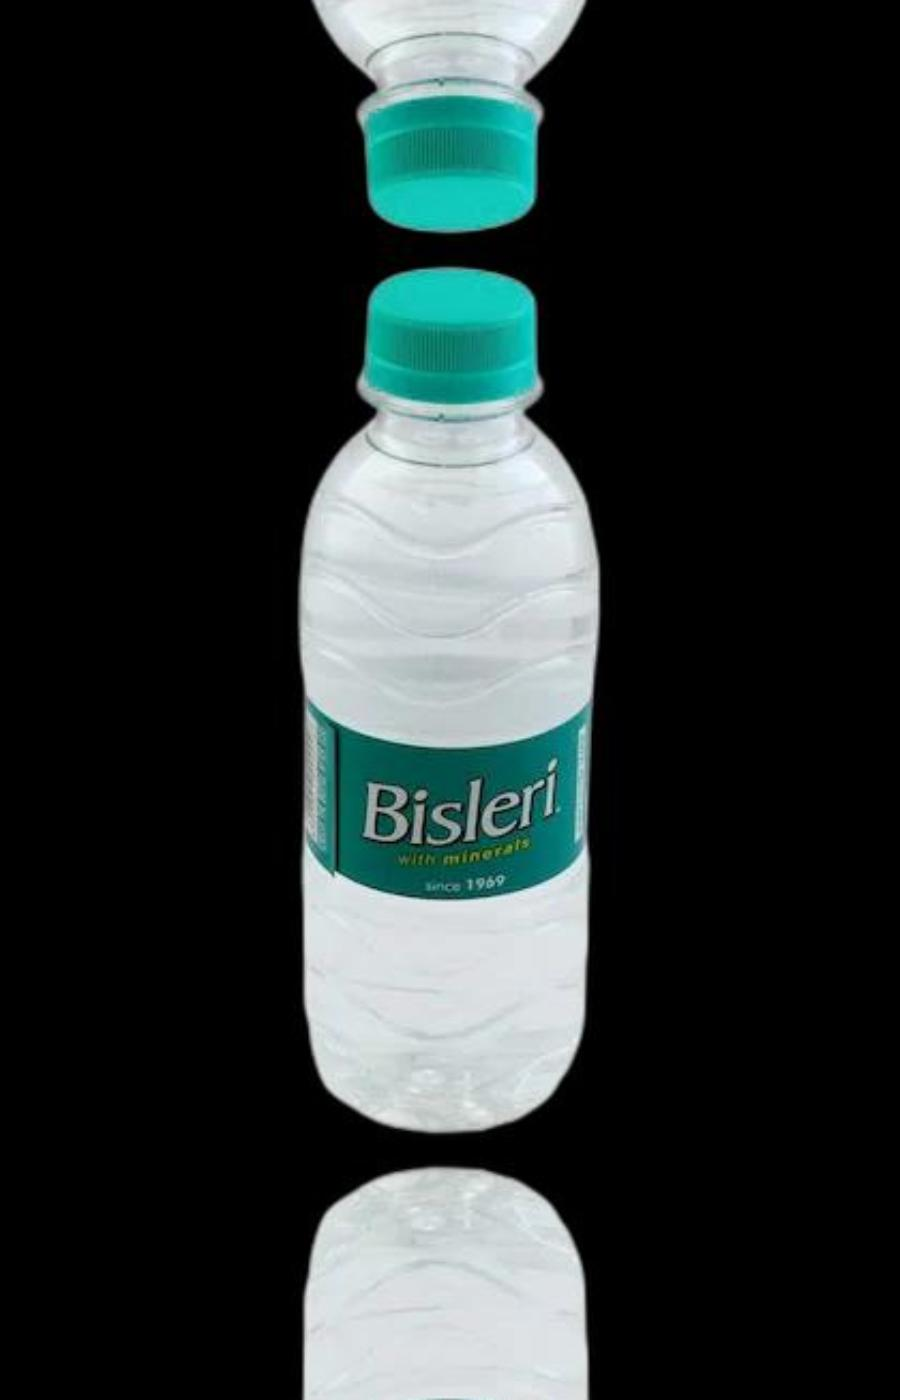Bisleri Packaged Drinking Water 250 ml: (290, 262, 606, 1130), (290, 0, 606, 238), (290, 1170, 606, 1400)
